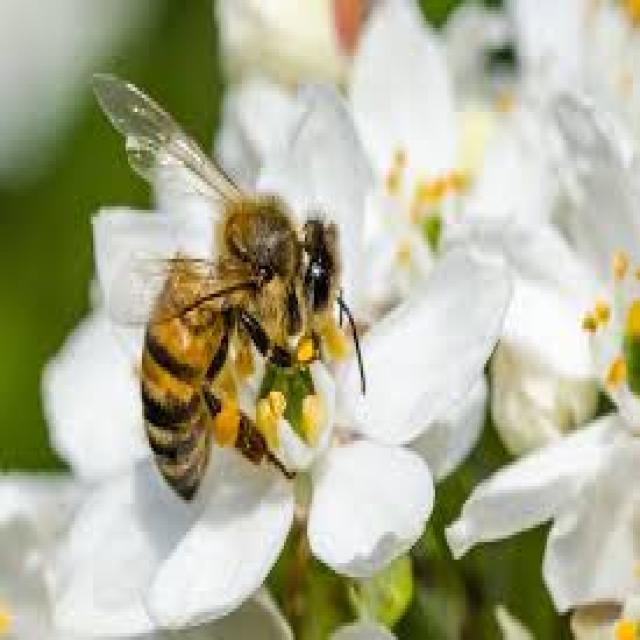Bees: (91, 72, 367, 506)
